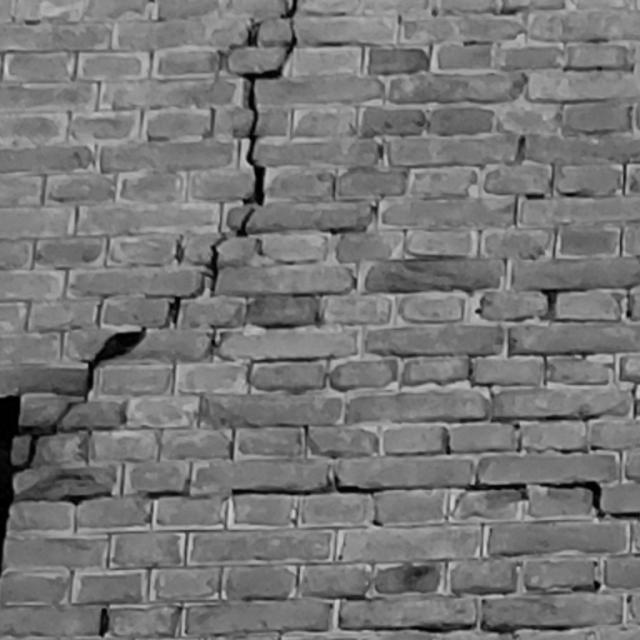crack: (11, 1, 298, 472), (11, 481, 640, 520)
